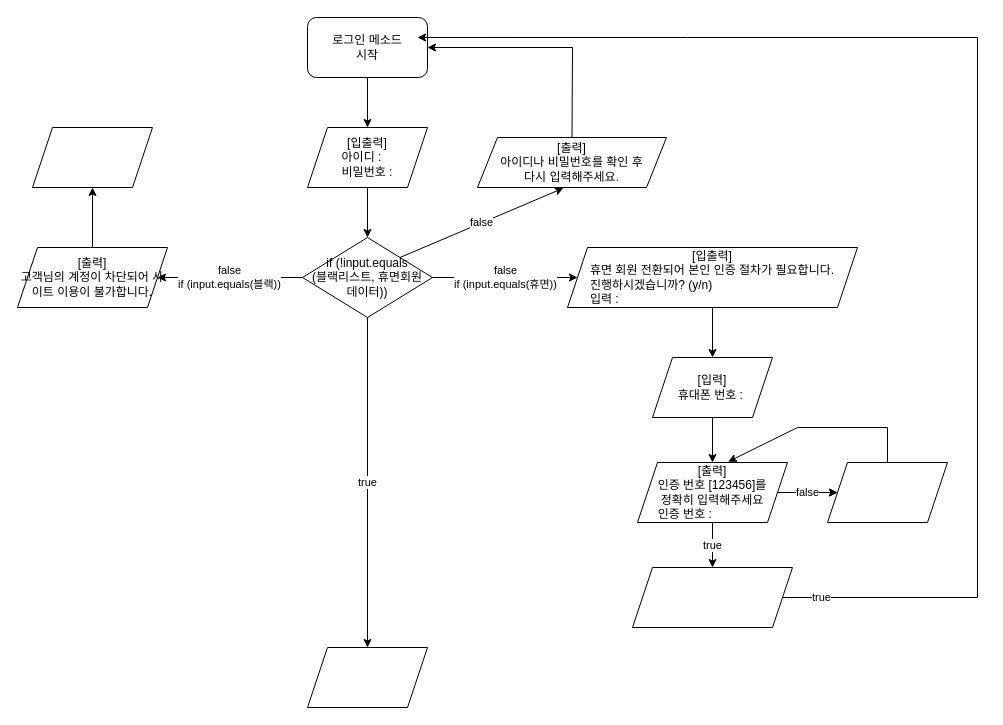
Image size: 1003x725. Some labels were removed from this diagram. Here are the shapes that lost their labels. From the top down, the centre of each, then its label:
pixel 92 157: 시작 화면
pixel 887 492: [출력] 인증 번호를 확인 후 다시 입력해주세요.
pixel 712 597: [출력] 계정 복구가 완료되었습니다. 다시 로그인 해주세요.
pixel 367 677: [출력] 로그인 성공 화면
